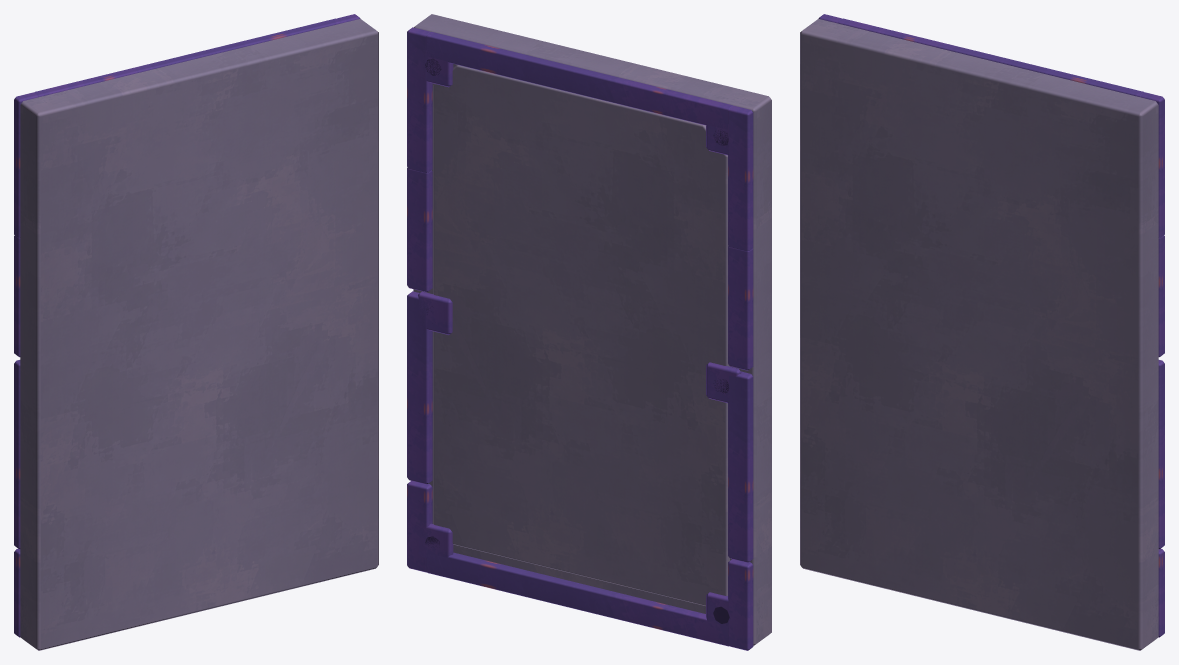
The model's file is bg_codex_wall_w01.glb.
The picture shows the model from 3 angles, left to right: view 1: azimuth 30°, elevation 25°; view 2: azimuth 150°, elevation 25°; view 3: azimuth 330°, elevation 25°; orthographic projection.
Parts seen in each view (by area): view 1: wall; view 2: wall; view 3: wall.
Part boxes in pixels (bbox=[...]): wall: bbox=[14, 14, 378, 650]; wall: bbox=[407, 14, 771, 650]; wall: bbox=[800, 14, 1164, 650].
Bounding box in the file's own units: 2 × 3 × 0.25.
1 material, 1 textured.
